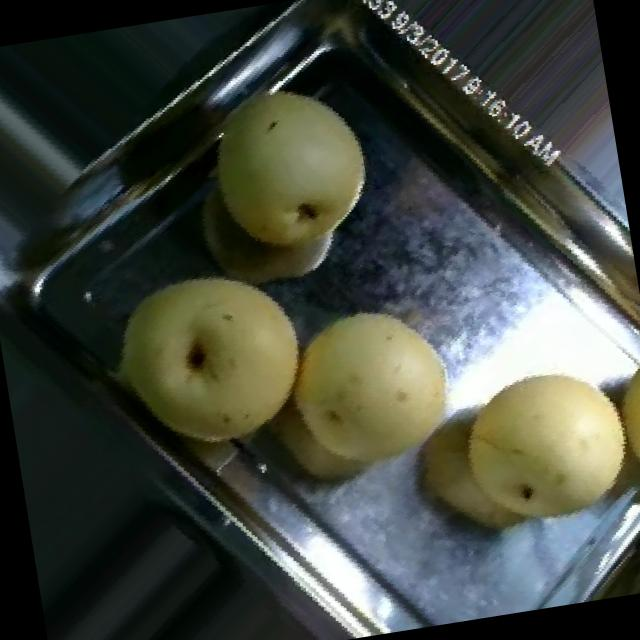Fruit: (74, 223, 345, 499), (228, 268, 490, 530), (169, 78, 397, 296), (426, 344, 640, 561)
